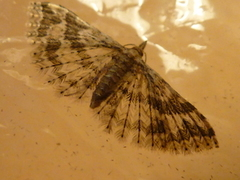Alucitidae: (27, 1, 221, 156)
moth: (29, 3, 223, 158)
